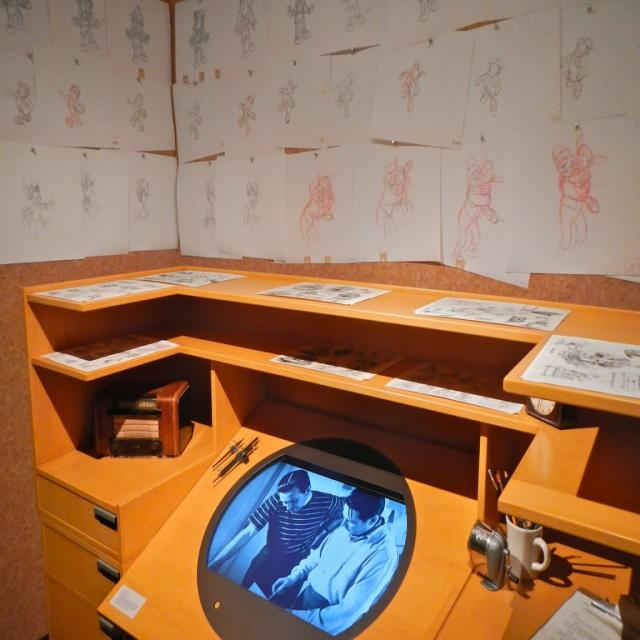desk: (27, 272, 621, 628)
person: (226, 465, 406, 634)
